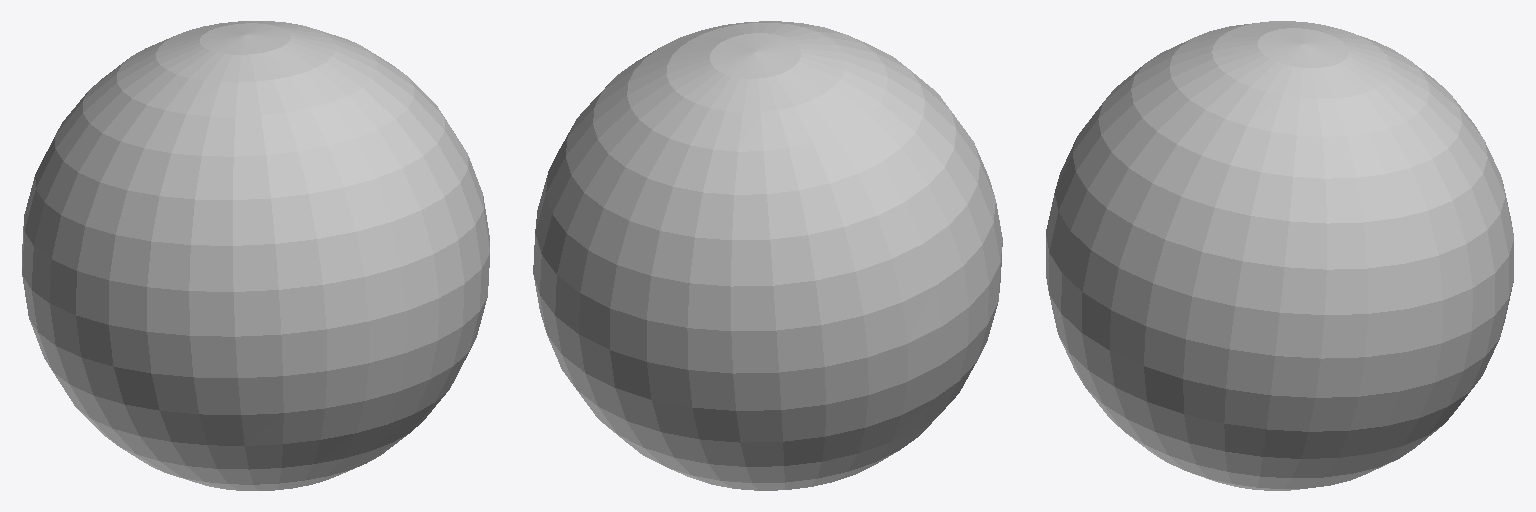
Rendered from old_A.obj.
The picture shows the model from 3 angles: view 1: azimuth 30°, elevation 25°; view 2: azimuth 150°, elevation 25°; view 3: azimuth 270°, elevation 25°; orthographic projection.
Visible parts, largest first — view 1: ball_ball_Sphere; view 2: ball_ball_Sphere; view 3: ball_ball_Sphere.
Part boxes in pixels (left/top/right/bottom): ball_ball_Sphere: left=22, top=21, right=489, bottom=490; ball_ball_Sphere: left=533, top=21, right=1002, bottom=490; ball_ball_Sphere: left=1046, top=21, right=1513, bottom=490.
Size of the model in its own units: 2 by 1.99 by 1.99.